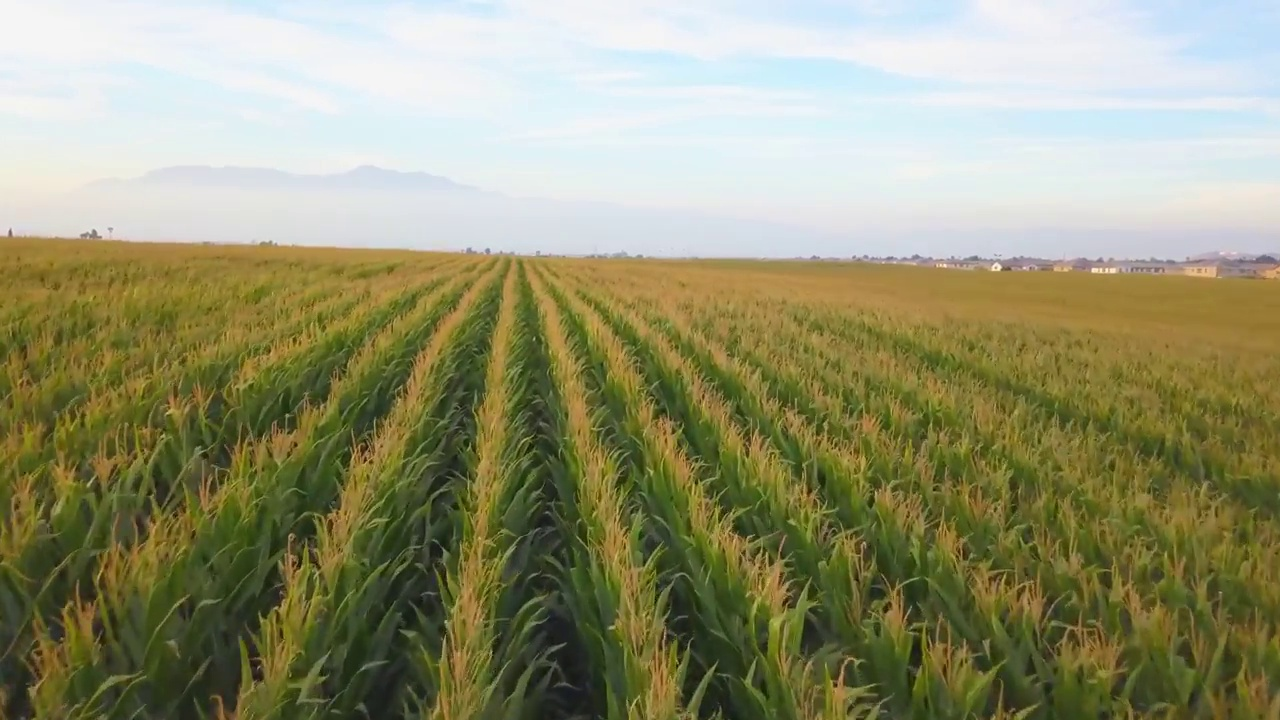Wheat: (291, 285, 1104, 609)
